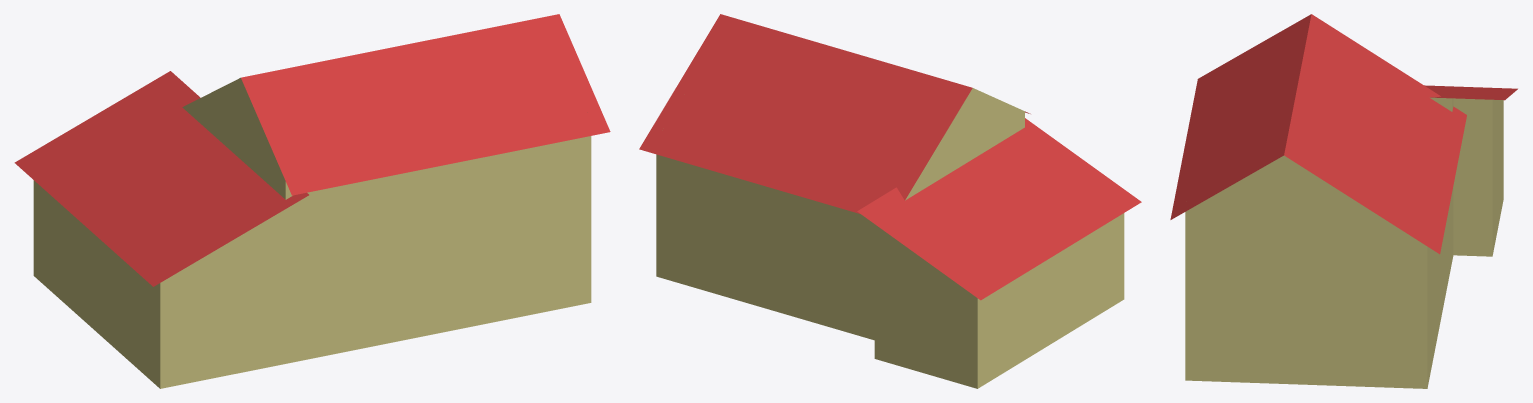
3 renders of one model, left to right at view 1: azimuth 30°, elevation 25°; view 2: azimuth 150°, elevation 25°; view 3: azimuth 270°, elevation 25°, orthographic. The views are drawn at different scales.
Bounding box in the file's own units: 27.42 × 19 × 14.12.
